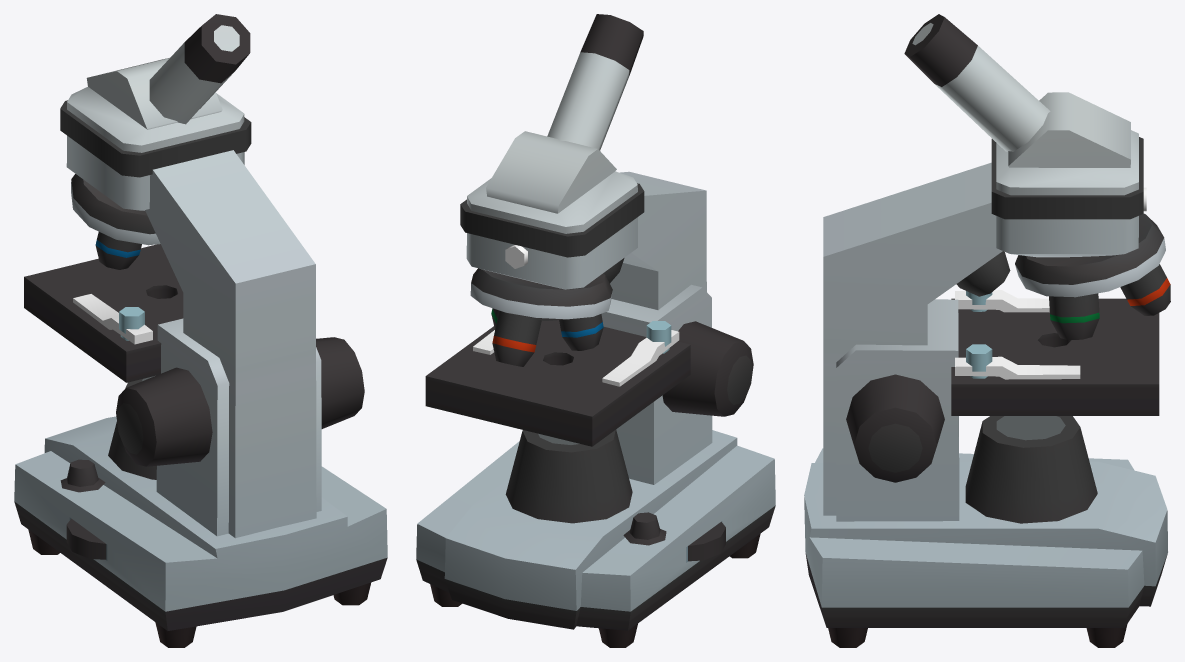
File: SM_JLAB_Microscope.fbx
The picture shows the model from 3 angles, left to right: view 1: azimuth 30°, elevation 25°; view 2: azimuth 150°, elevation 25°; view 3: azimuth 270°, elevation 25°; orthographic projection. The views are drawn at different scales.
Visible parts, largest first — view 1: Color, Glass; view 2: Color, Glass; view 3: Color, Glass.
Boxes of the visible parts, bbox=[...] form: Color: bbox=[14, 14, 387, 647]; Glass: bbox=[73, 294, 152, 344]; Color: bbox=[416, 14, 775, 647]; Glass: bbox=[473, 245, 679, 386]; Color: bbox=[804, 14, 1170, 647]; Glass: bbox=[955, 187, 1146, 379].
Size of the model in its own units: 0.297 by 0.6748 by 0.3857.
Materials: 2 (2 with a texture image).
